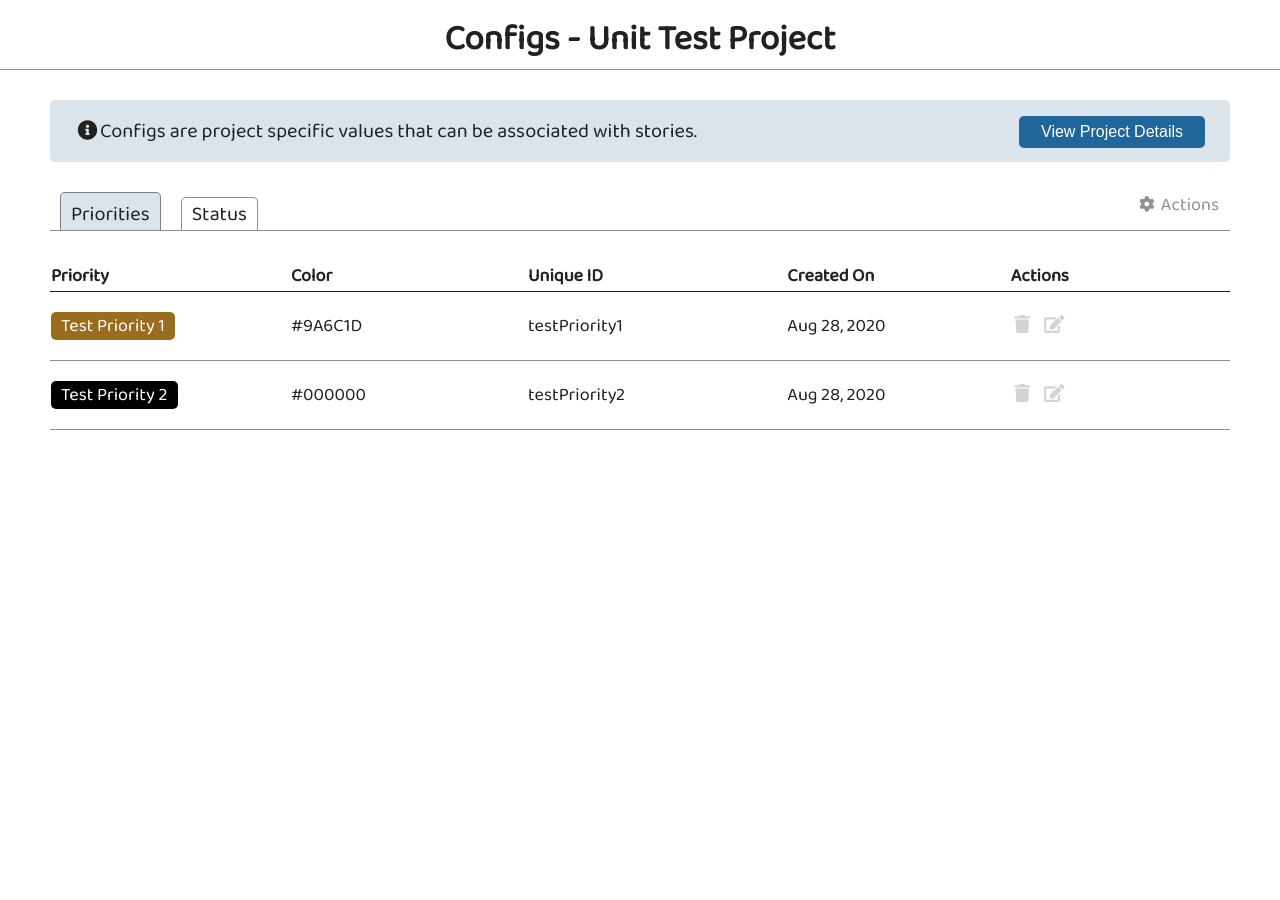
Test: <ProjectConfigs /> › should render the ProjectConfigModal on add priority action click
The image size is (1280, 900).
Click the element with test id "projectConfigsActionsMenu": (1178, 205) top-left (1138, 191), bottom-right (1219, 219)
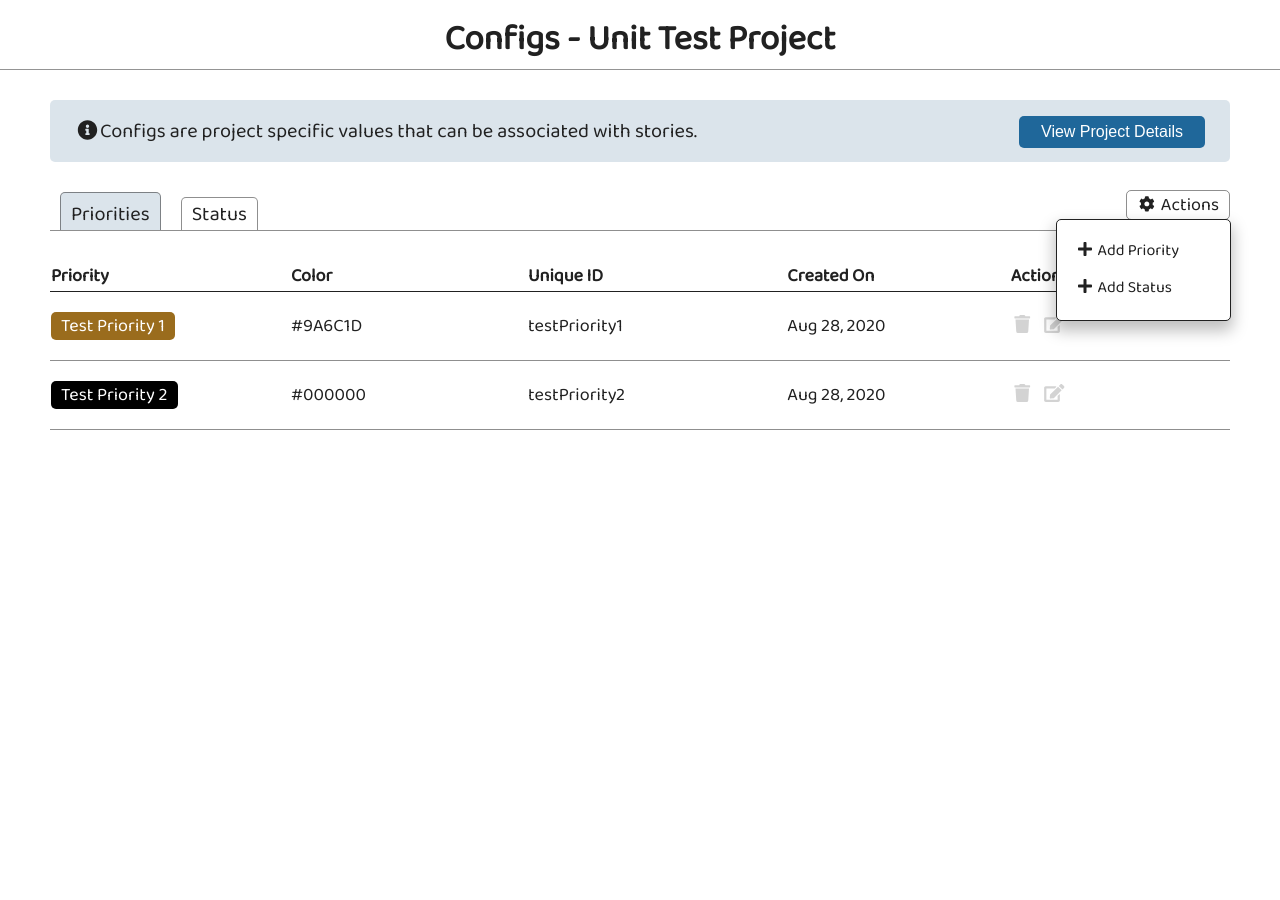
Click the list item "Add Priority": (1144, 250) top-left (1062, 232), bottom-right (1226, 269)
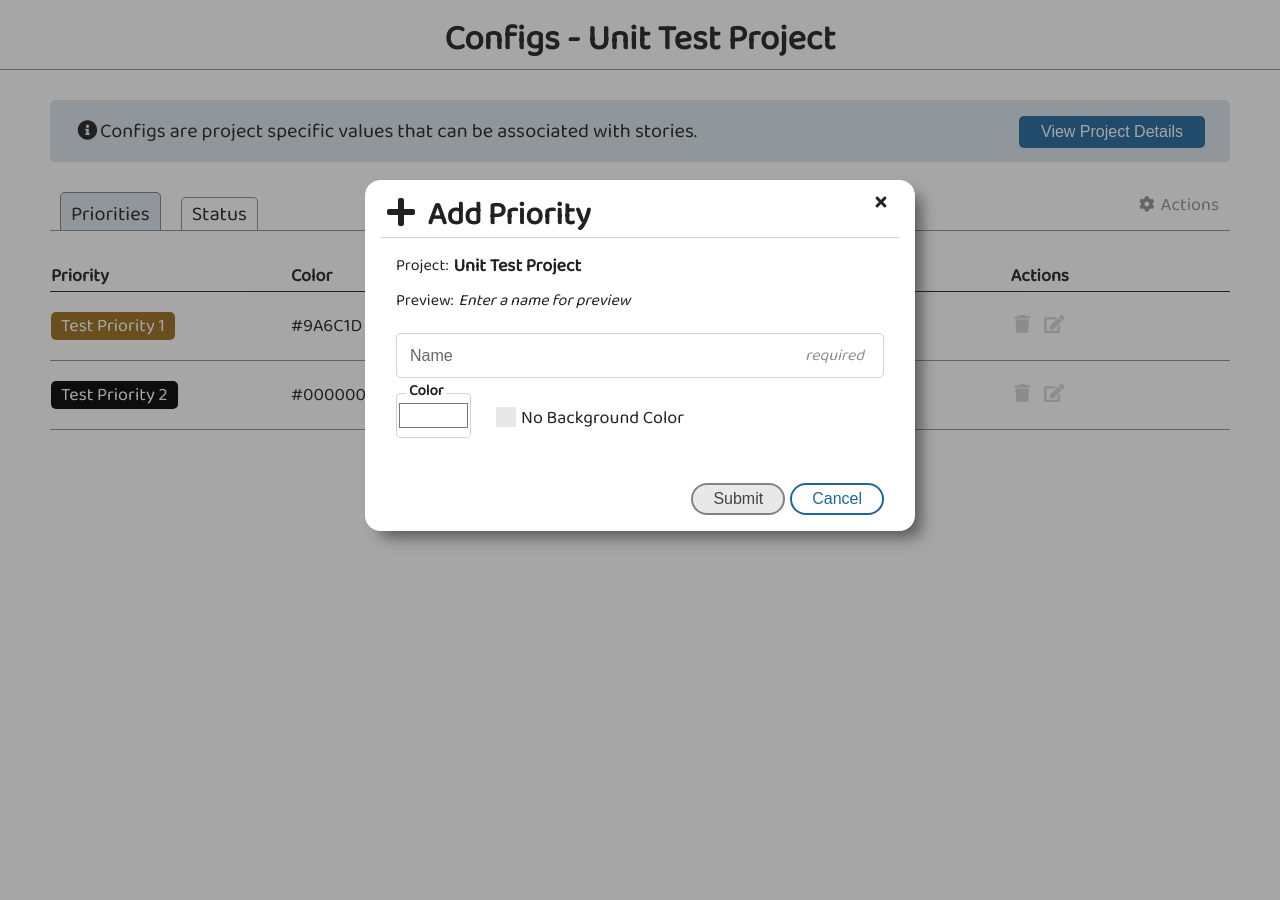
Expected: the heading "Add Priority" is shown, top-left (381, 190), bottom-right (591, 241)
Expected: the element with test id "projectConfigModal.wrapper" is shown
